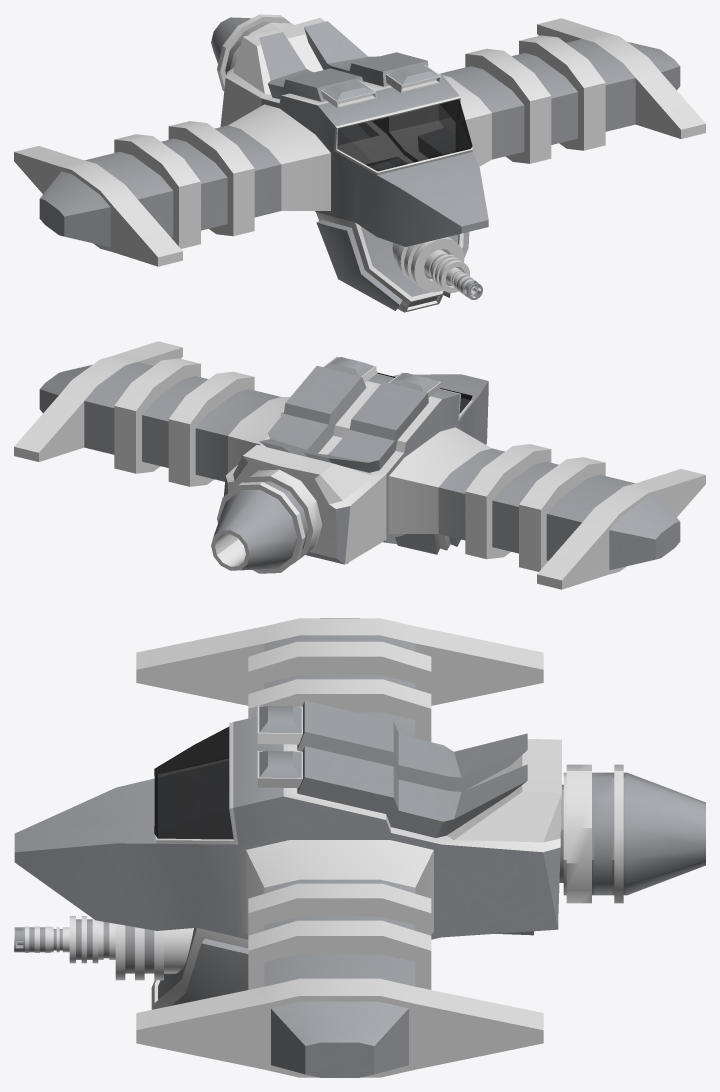
File: CCA.fbx
3 views of the same model, one above another, from view 1: azimuth 30°, elevation 25°; view 2: azimuth 150°, elevation 25°; view 3: azimuth 270°, elevation 25° (orthographic). The views are drawn at different scales.
Visible parts, largest first — view 1: CCA; view 2: CCA; view 3: CCA.
Boxes of the visible parts, x1,y1,x2,y2 form: CCA: (14, 14, 705, 312); CCA: (14, 341, 705, 589); CCA: (14, 618, 705, 1077).
Bounding box in the file's own units: 8.9 × 2.8 × 6.13.
